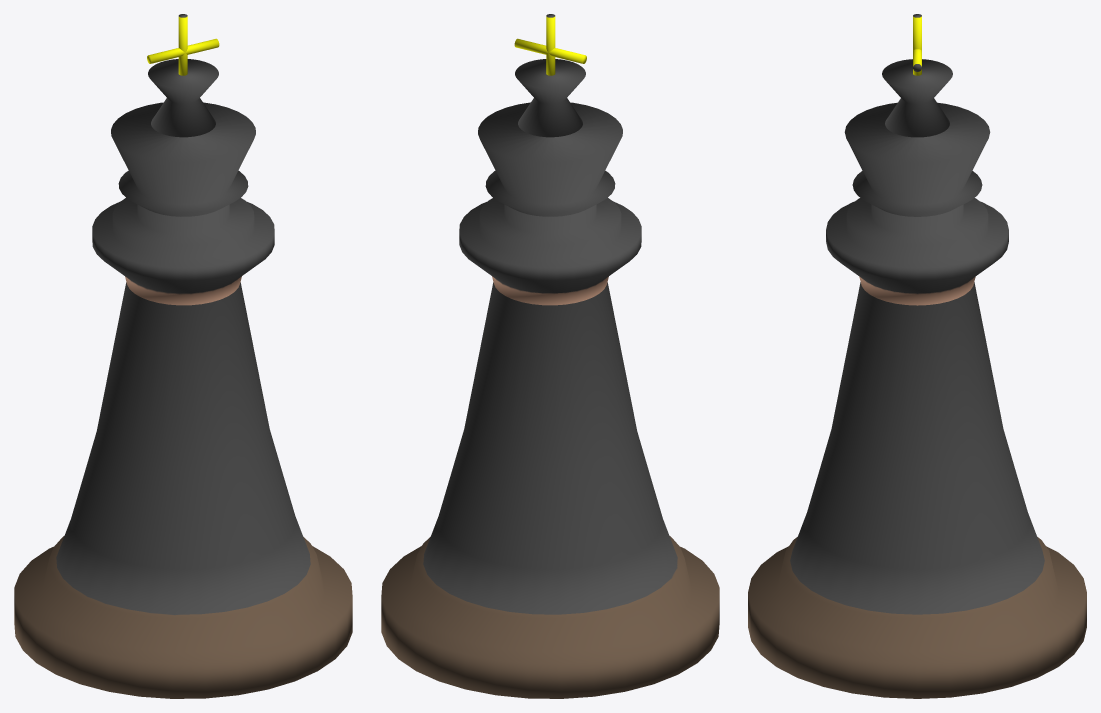
The model's file is King.gltf.
The picture shows the model from 3 angles, left to right: view 1: azimuth 30°, elevation 25°; view 2: azimuth 150°, elevation 25°; view 3: azimuth 270°, elevation 25°; orthographic projection.
Visible parts, largest first — view 1: キング.001; view 2: キング.001; view 3: キング.001.
Part boxes in pixels (bbox=[...]): キング.001: bbox=[14, 14, 352, 698]; キング.001: bbox=[381, 14, 719, 698]; キング.001: bbox=[748, 14, 1086, 698].
Size of the model in its own units: 0.8681 by 1.73 by 0.8681.
Materials: 1 (1 with a texture image).
